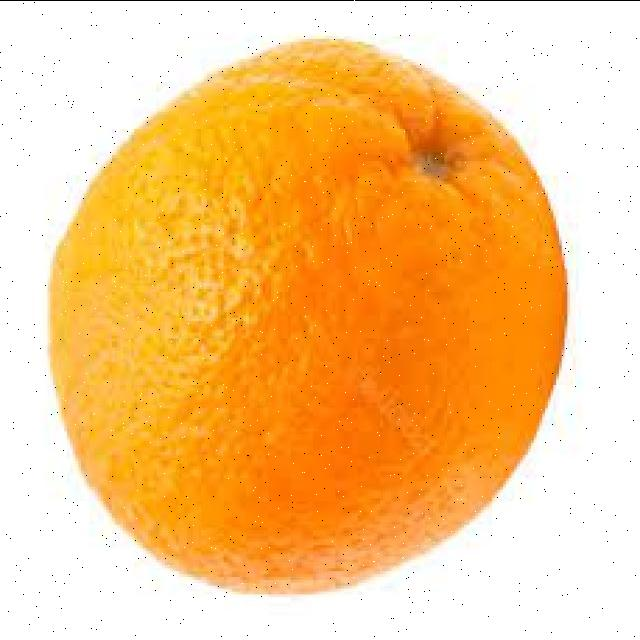Orange: (45, 36, 568, 597)
